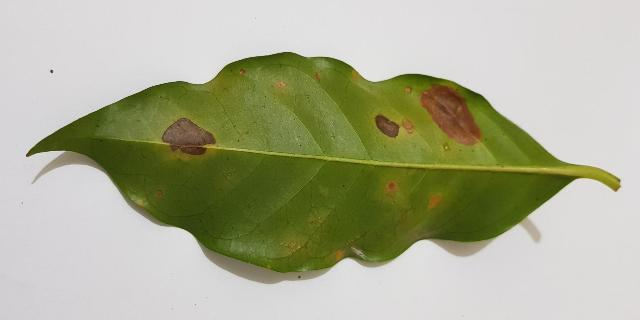cercospora: (418, 83, 482, 146), (160, 118, 219, 158), (372, 112, 415, 139), (385, 180, 399, 195), (428, 194, 442, 208), (352, 69, 361, 80), (335, 250, 344, 260), (405, 87, 412, 94), (315, 72, 320, 80), (158, 190, 162, 196)
